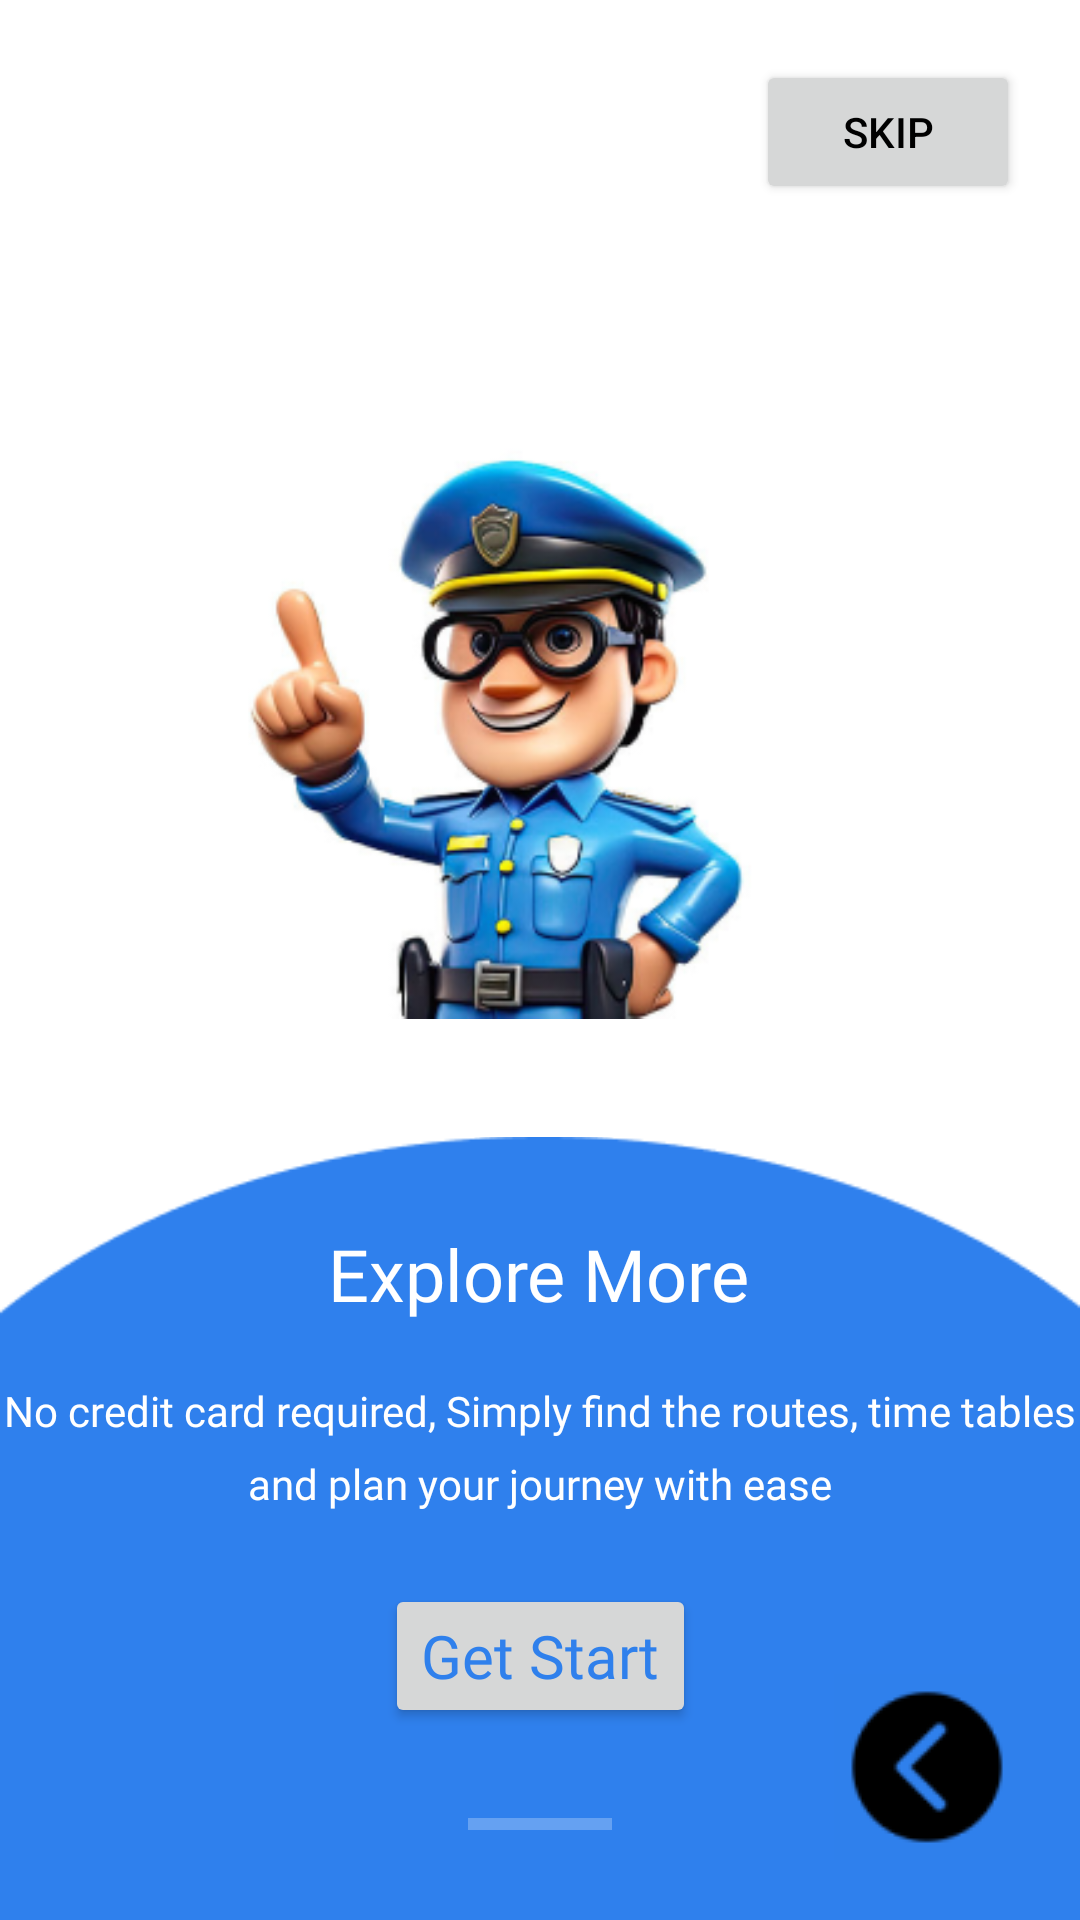

Icon click points for this 1080w x 1920h phone screenshot, format point (x, y):
previous: point (927, 1767)
